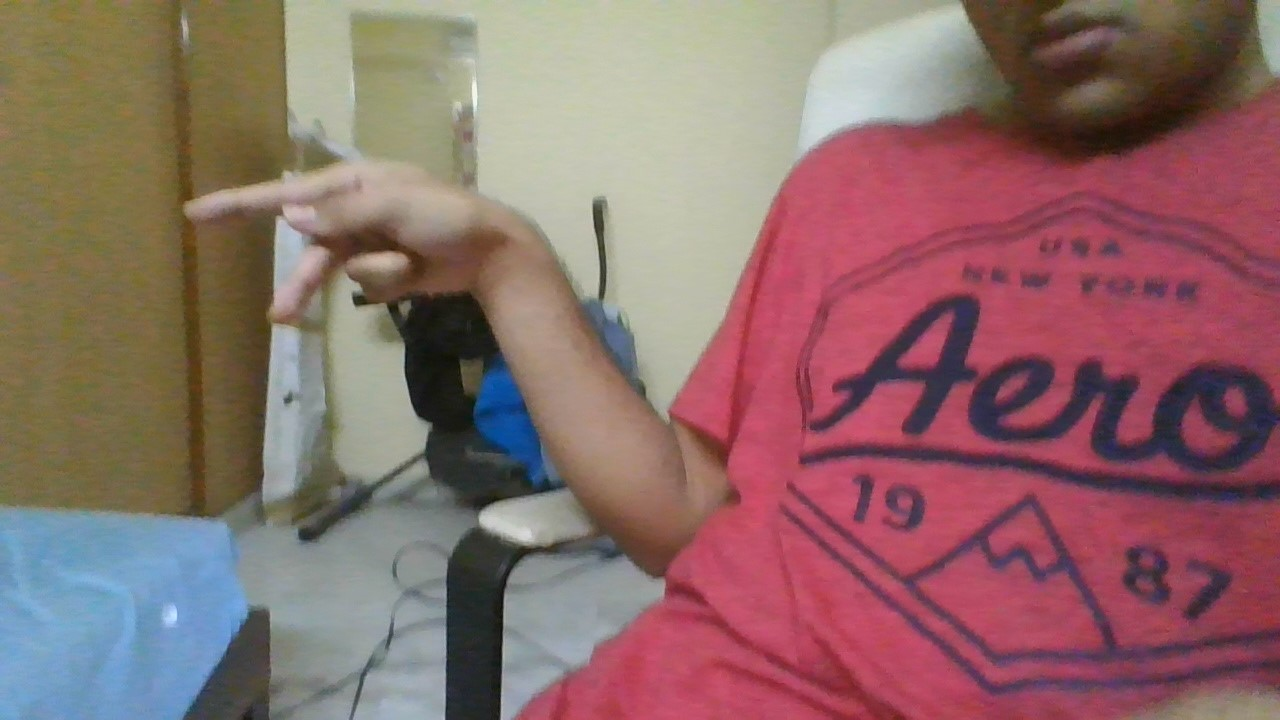p: (177, 152, 509, 331)
